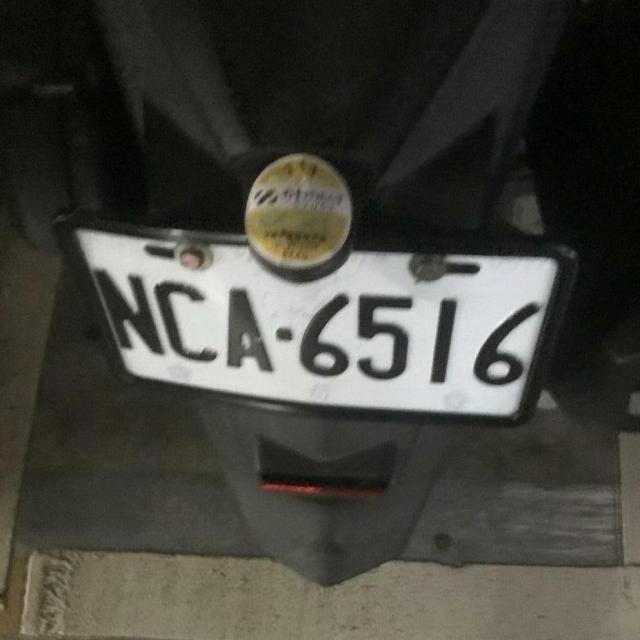W: (77, 168, 555, 457)
